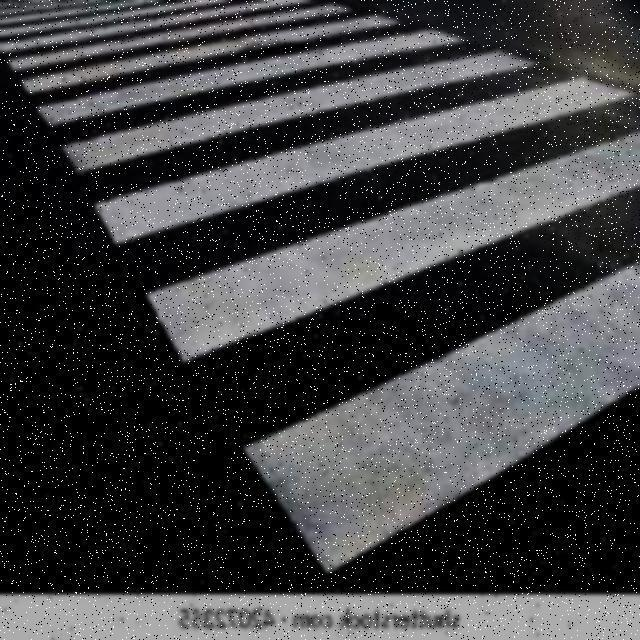Pedestrian crosswalk: (2, 0, 640, 583)
